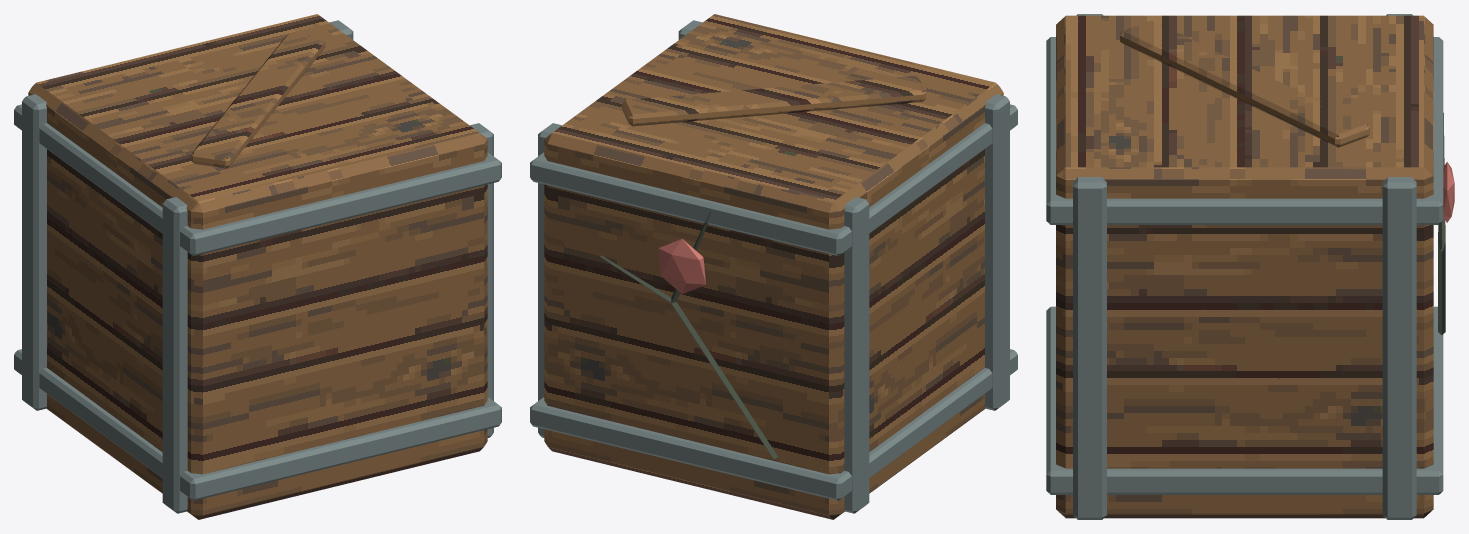
The model's file is caixa_rachada.fbx.
3 renders of one model, left to right at view 1: azimuth 30°, elevation 25°; view 2: azimuth 150°, elevation 25°; view 3: azimuth 270°, elevation 25°, orthographic. The views are drawn at different scales.
Parts seen in each view (by area): view 1: pedreira_caixa_rachada; view 2: pedreira_caixa_rachada; view 3: pedreira_caixa_rachada.
Boxes of the visible parts, box(x1,y1,x2,y2) form: pedreira_caixa_rachada: box(14, 14, 501, 519); pedreira_caixa_rachada: box(530, 14, 1017, 519); pedreira_caixa_rachada: box(1046, 14, 1454, 519).
Size of the model in its own units: 84.2 by 83.2 by 84.33.
4 materials, 1 textured.
